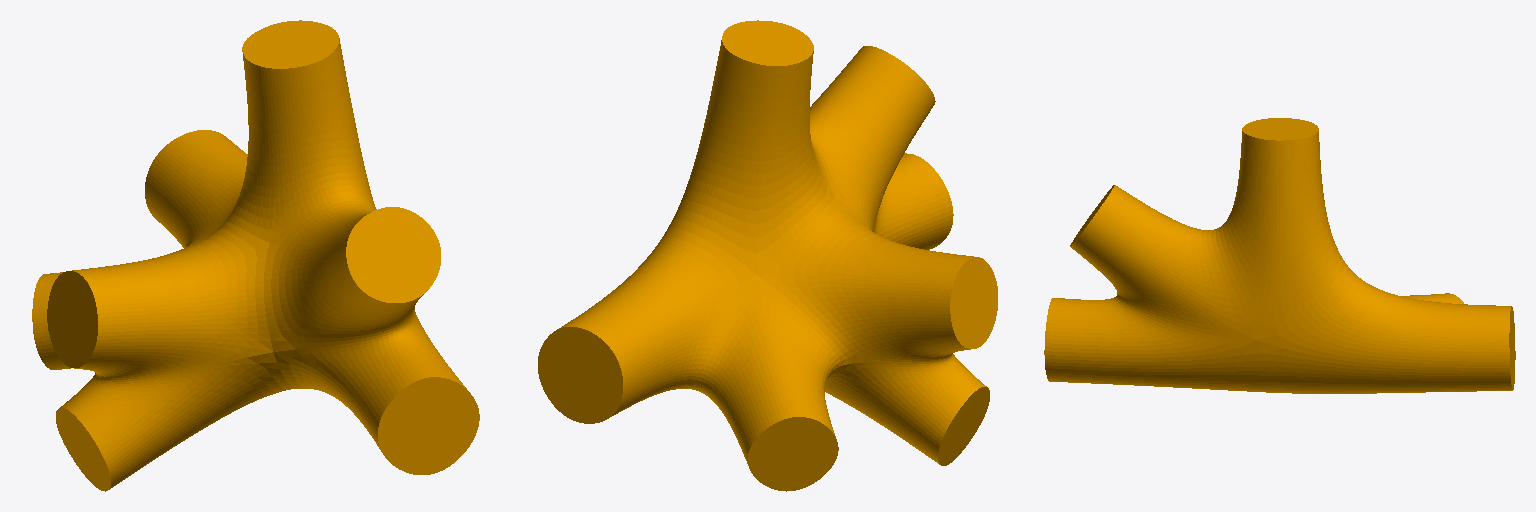
The robot description file, URDF, robot "object":
<robot name="object">
  <link name="object">
    <visual>
      <origin xyz="0 0 0"/>
      <geometry>
        <mesh filename="visual.obj" scale="1 1 1"/>
      </geometry>
    </visual>
    <collision>
      <origin xyz="0 0 0"/>
      <geometry>
        <mesh filename="visual.obj" scale="1 1 1"/>
      </geometry>
    </collision>
    <inertial>
      <mass value="0.05"/>
      <inertia ixx="2.220831513801602e-05" iyy="1.320893530454706e-05" izz="2.2475992573874286e-05" ixy="2.245982116992582e-08" ixz="-2.0292609629190378e-06" iyz="2.2335982874678344e-06"/>
    </inertial>
  </link>
</robot>

--- Facts derived from the render (not from the file) ---
Views: 3 orthographic renders of the robot side by side, from view 1: azimuth 30°, elevation 25°; view 2: azimuth 150°, elevation 25°; view 3: azimuth 270°, elevation 25°.
Model object with 1 links and 0 joints (none), rooted at object, posed all joints at 0.
Links seen in each view (by area): view 1: object; view 2: object; view 3: object.
Boxes of the visible links, x1=… form: object: x1=32, y1=20, x2=479, y2=491; object: x1=538, y1=20, x2=997, y2=491; object: x1=1044, y1=118, x2=1515, y2=393.
Size in the robot's own frame: 0.0539 by 0.0871 by 0.0643 metres.
1 mesh visuals loaded from 1 distinct referenced files (1 OBJ).
